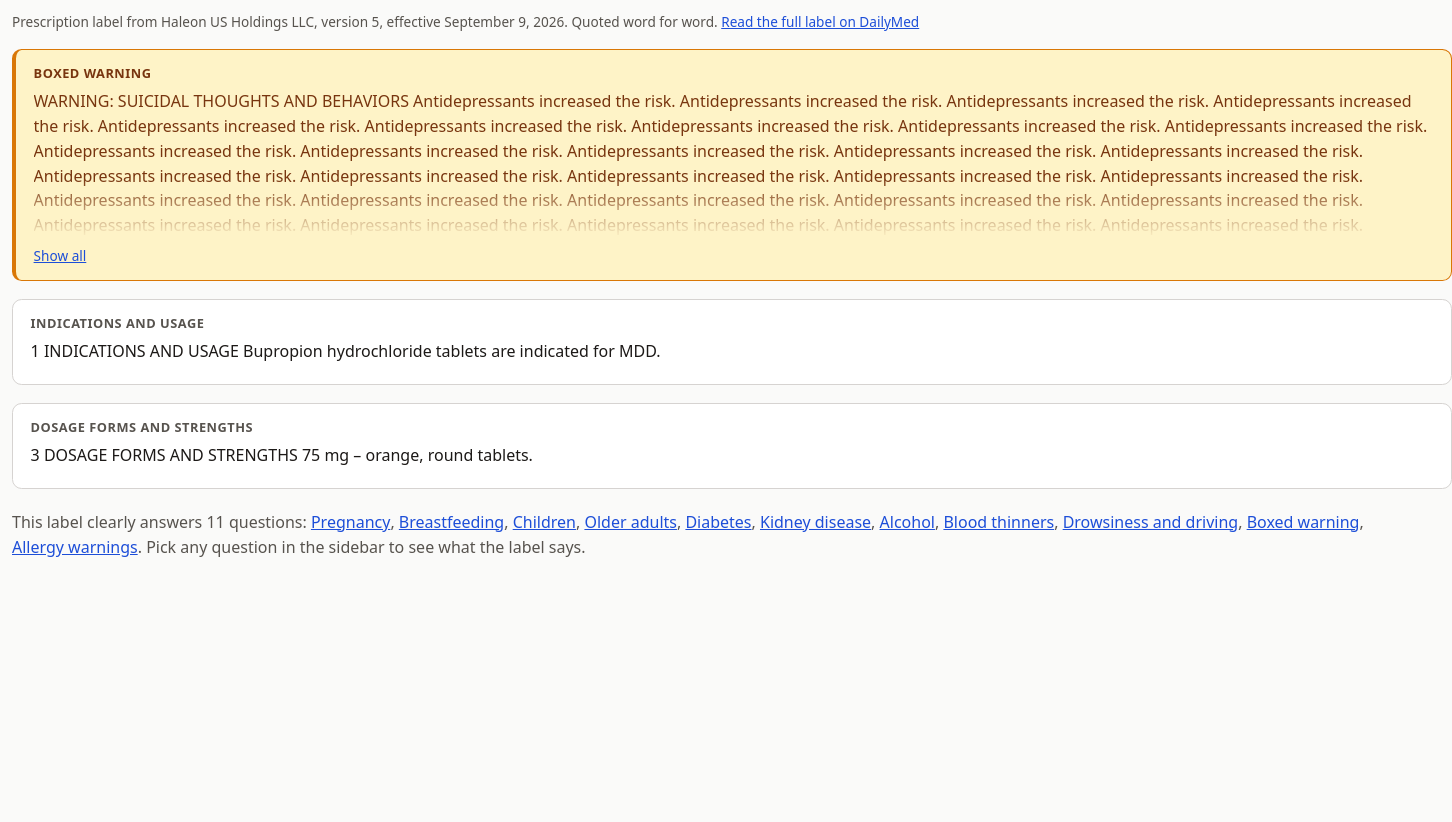
Test: LabelOverview › collapses a long section but keeps all of it on the page
Click the button "Show all".
click(60, 255)  # box top-left (34, 246), bottom-right (86, 265)
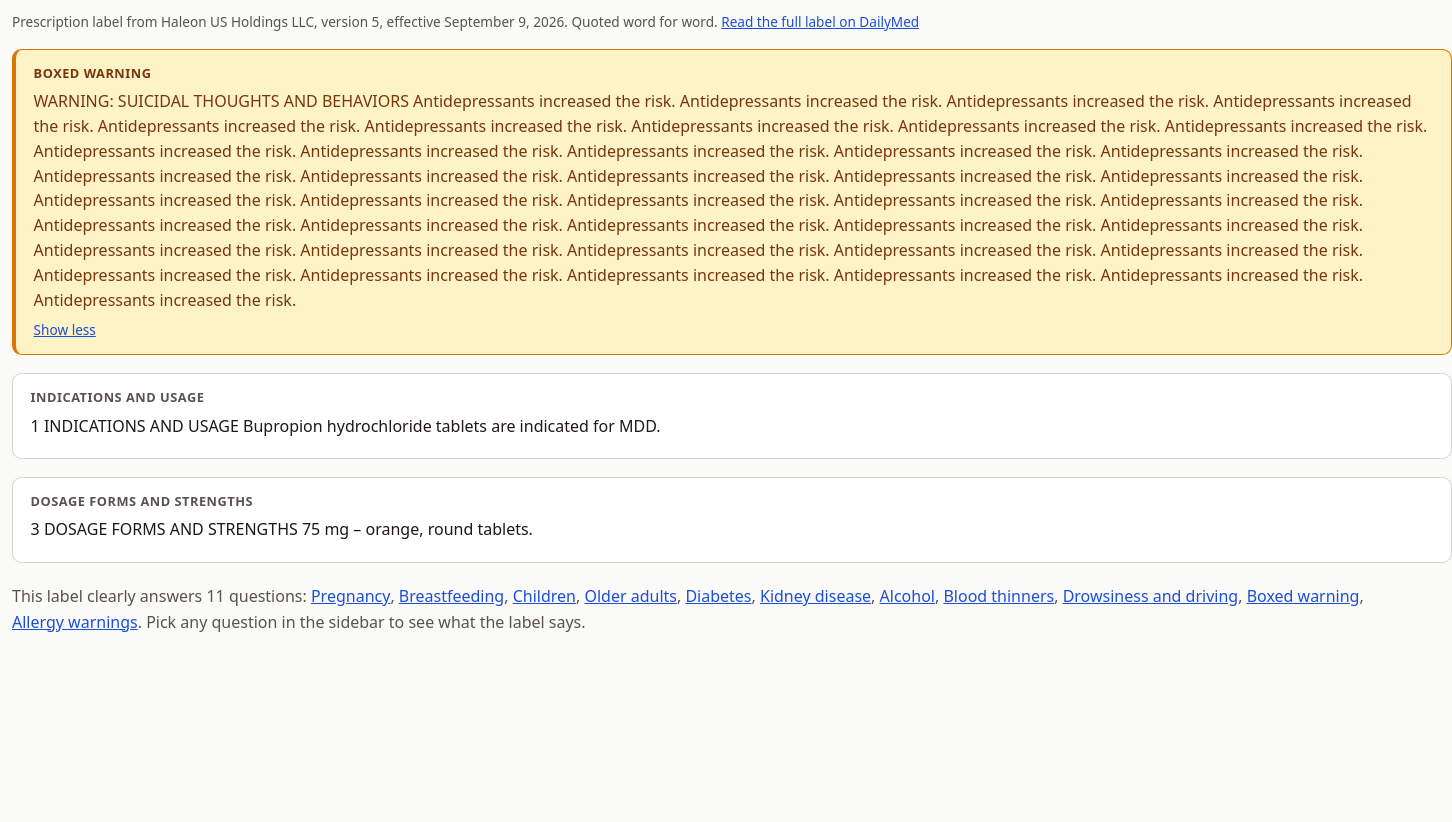
Expected: the button "Show less" is expanded, top-left (34, 320), bottom-right (96, 339)
